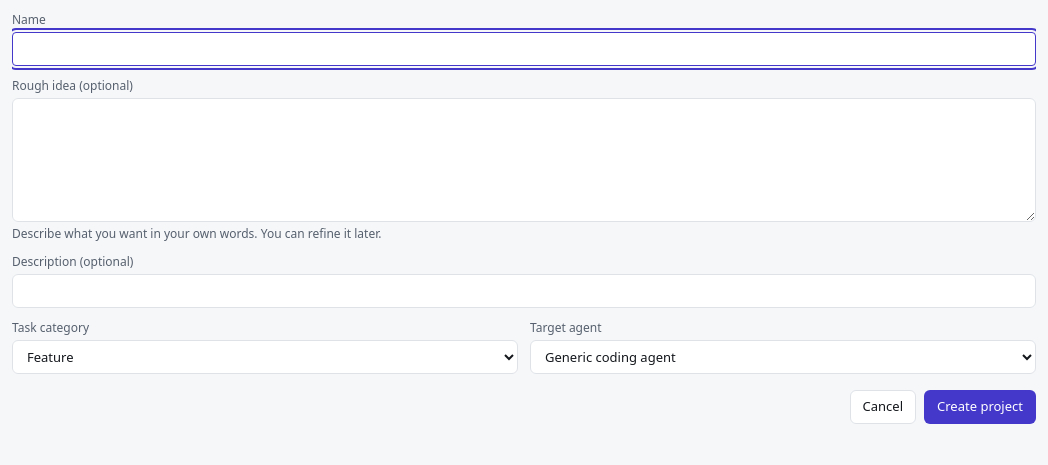
ProjectForm validation › requires a name and does not submit when invalid
This screenshot has width=1048, height=465.
Step 1. Click the button "Create project" → [980, 407], box [924,390,1036,424]
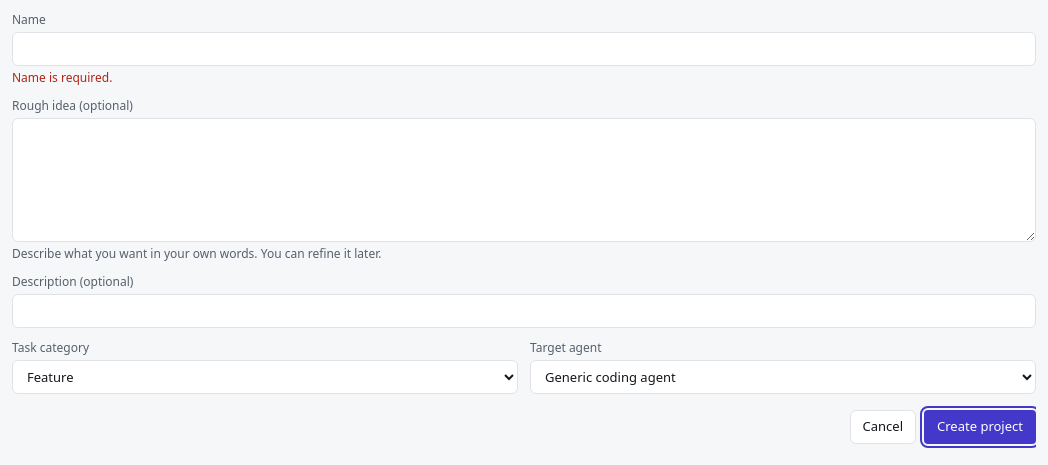
Now the message reads "Name is required.", box [12,69,112,86]
